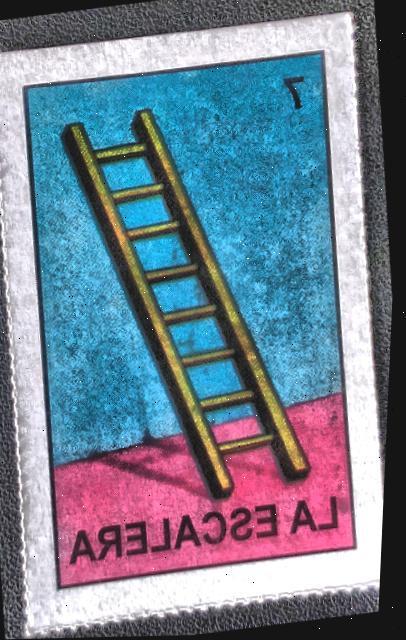La Escalera: (0, 24, 398, 621)
